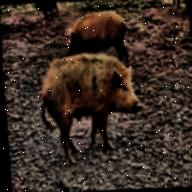boar: (38, 41, 159, 156), (58, 0, 139, 66)
